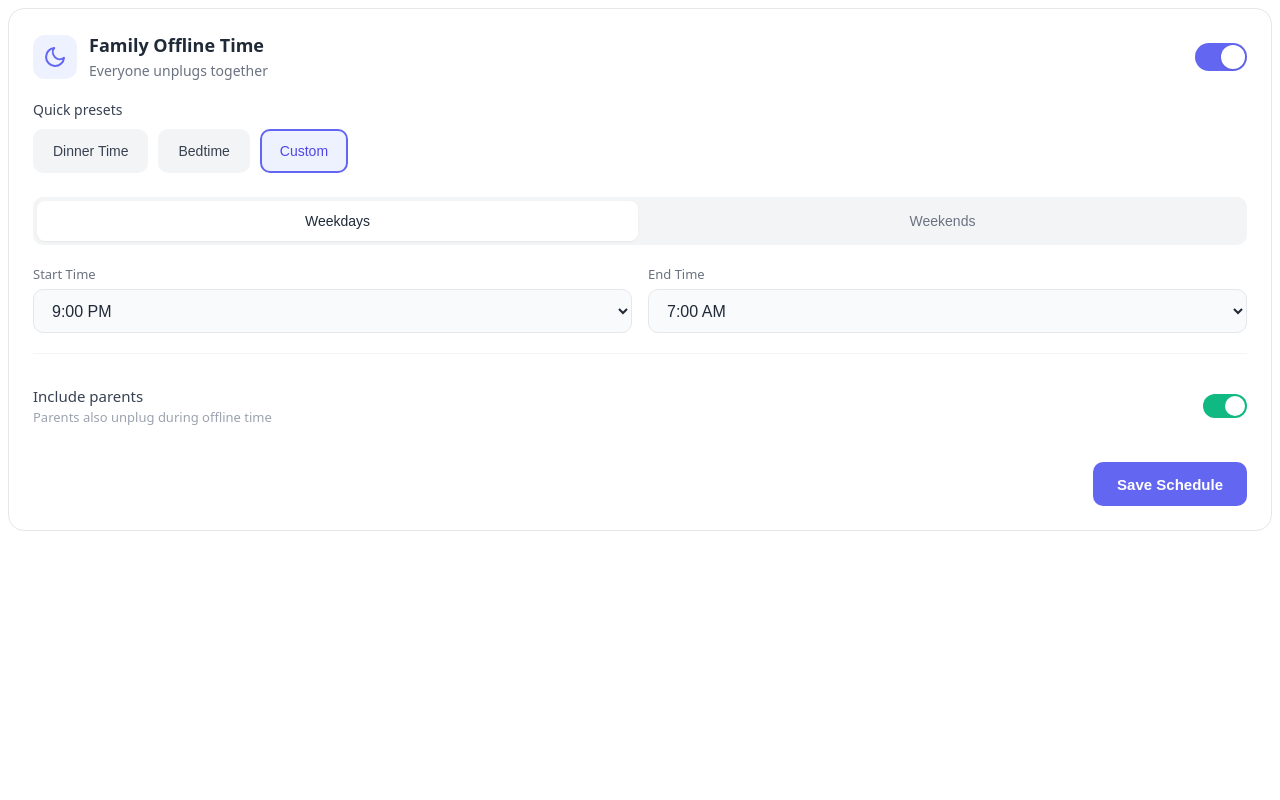
Test: OfflineScheduleCard - Story 32.1 › Save functionality › shows error message on save failure
The image size is (1280, 800).
What coordinates should you click on to do the following:
click the button with test id "save-button"
I would click on:
 (1170, 484)
Its box is x1=1093 y1=462 x2=1247 y2=506.
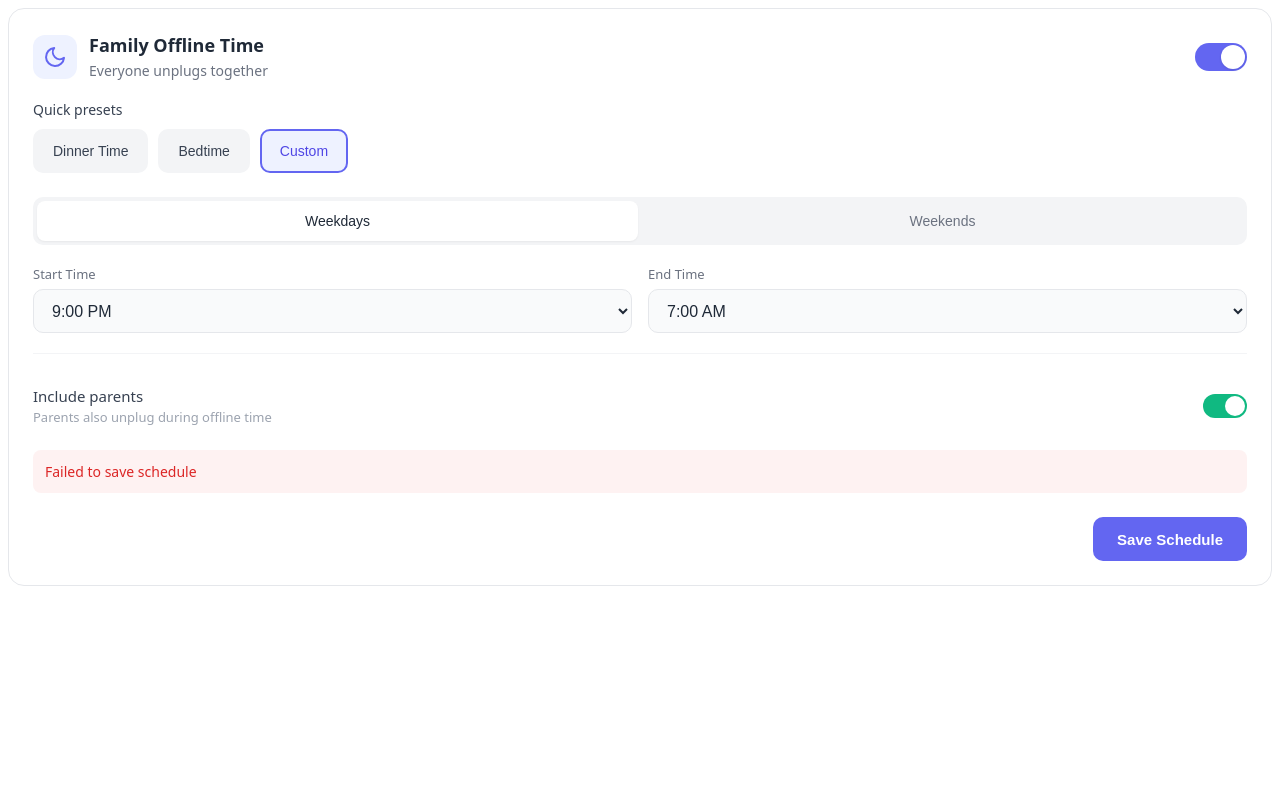
Check: the text "Failed to save schedule" is shown, box x1=33 y1=450 x2=1247 y2=493
